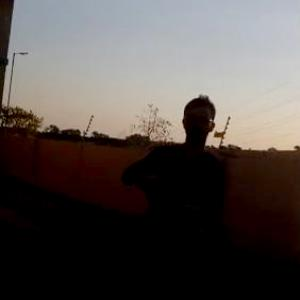follow: (115, 86, 233, 299)
